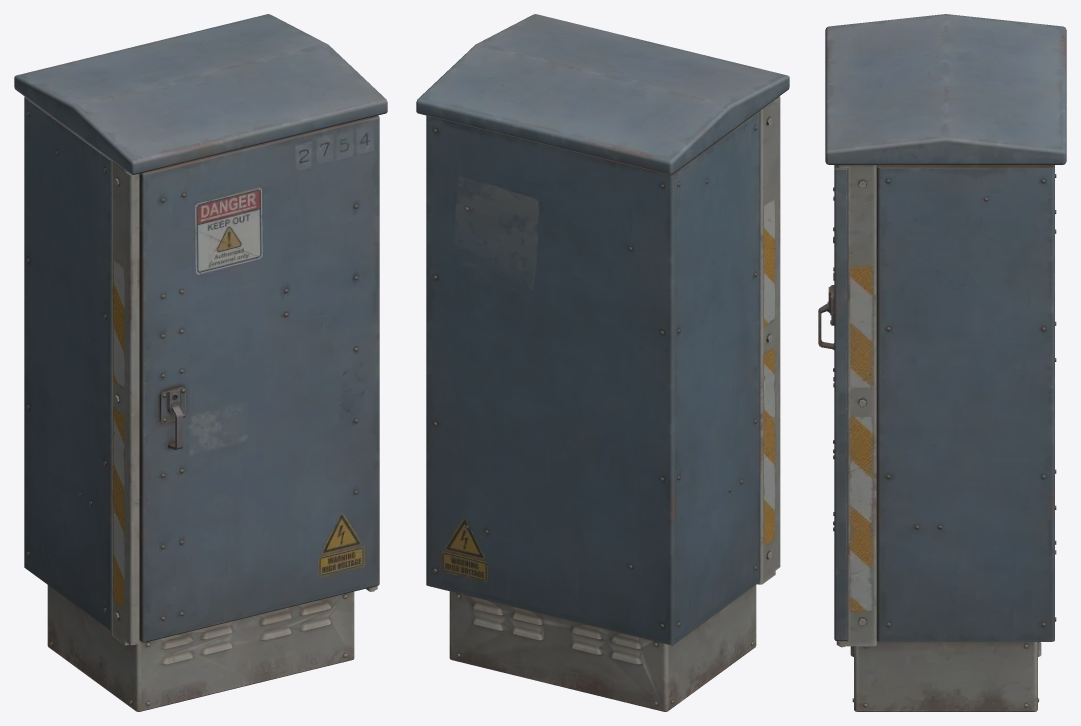
Rendered from utility_box_01.glb.
3 renders of one model, left to right at view 1: azimuth 30°, elevation 25°; view 2: azimuth 150°, elevation 25°; view 3: azimuth 270°, elevation 25°, orthographic.
Visible parts, largest first — view 1: utility_box_01_box; view 2: utility_box_01_box; view 3: utility_box_01_box.
Part boxes in pixels (x1,y1,x2,y2): utility_box_01_box: (14, 14, 387, 711); utility_box_01_box: (416, 14, 789, 711); utility_box_01_box: (818, 14, 1066, 711).
Size of the model in its own units: 0.52 by 1.12 by 0.432.
1 material, 1 textured.
